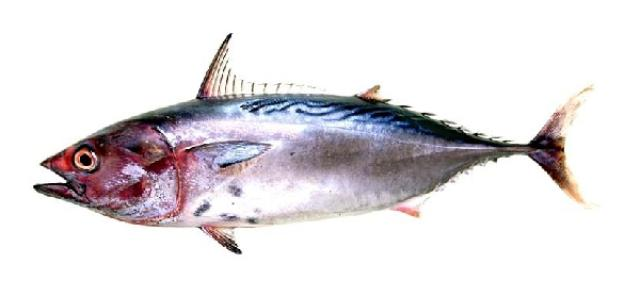Mulut: (21, 148, 84, 212)
Sirip Anal: (385, 184, 437, 226)
Sirip Dada: (198, 133, 286, 177)
Sirip Ekor: (524, 76, 612, 222)
Sirip Perut: (195, 216, 249, 258)
Sirip Punggung: (194, 28, 392, 106)
